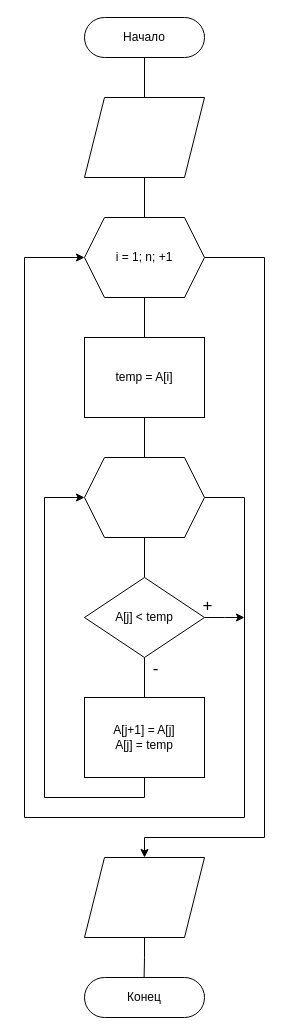
Some shapes in this 290 by 1035 pixel diagram are drawn without their labels. The centre of each missing label's shape, as x and y in pixels:
j = i -1; >=0; -1: point (144, 497)
Ввод A[n]: point (144, 137)
Вывод A[n]: point (144, 897)
